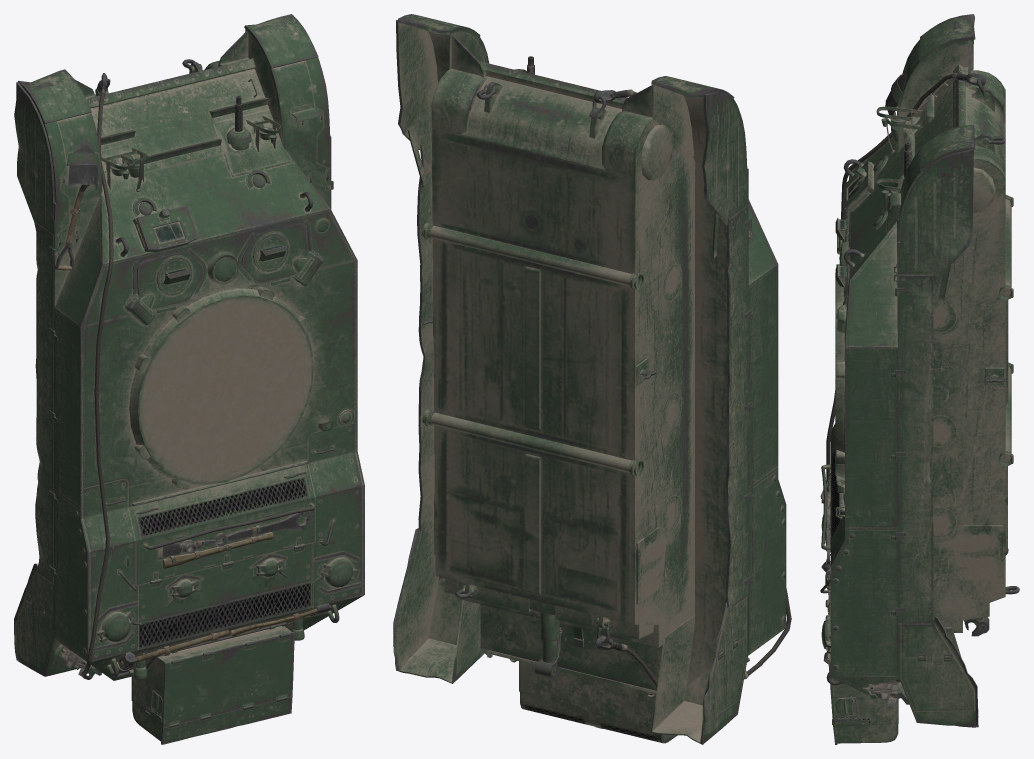
Rendered from Hull.glb.
The picture shows the model from 3 angles, left to right: view 1: azimuth 30°, elevation 25°; view 2: azimuth 150°, elevation 25°; view 3: azimuth 270°, elevation 25°; orthographic projection. The views are drawn at different scales.
Visible parts, largest first — view 1: set_0_group_0; view 2: set_0_group_0; view 3: set_0_group_0.
Part boxes in pixels (left/top/right/bottom): set_0_group_0: left=14, top=14, right=364, bottom=744; set_0_group_0: left=393, top=14, right=791, bottom=744; set_0_group_0: left=820, top=14, right=1019, bottom=744.
Size of the model in its own units: 2.32 by 4.97 by 1.42.
Materials: 1 (1 with a texture image).
